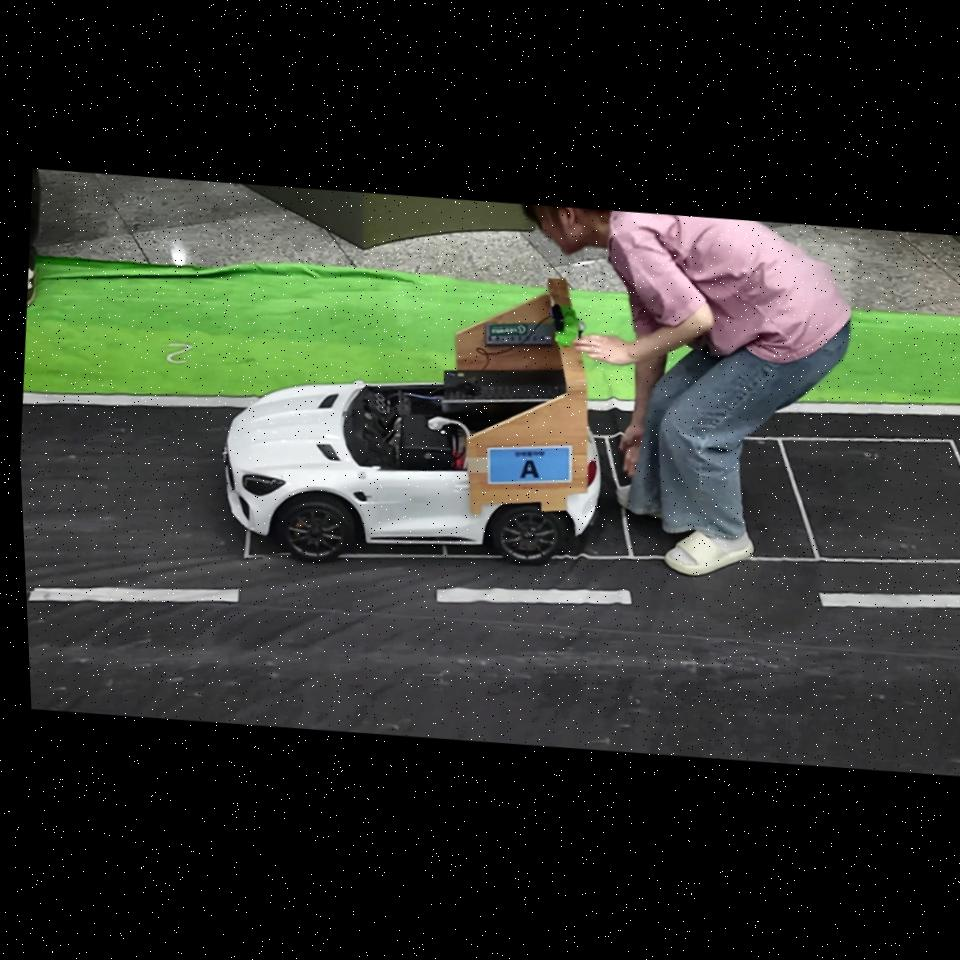broken_line: (436, 587, 632, 605), (28, 587, 239, 603), (819, 593, 960, 609)
